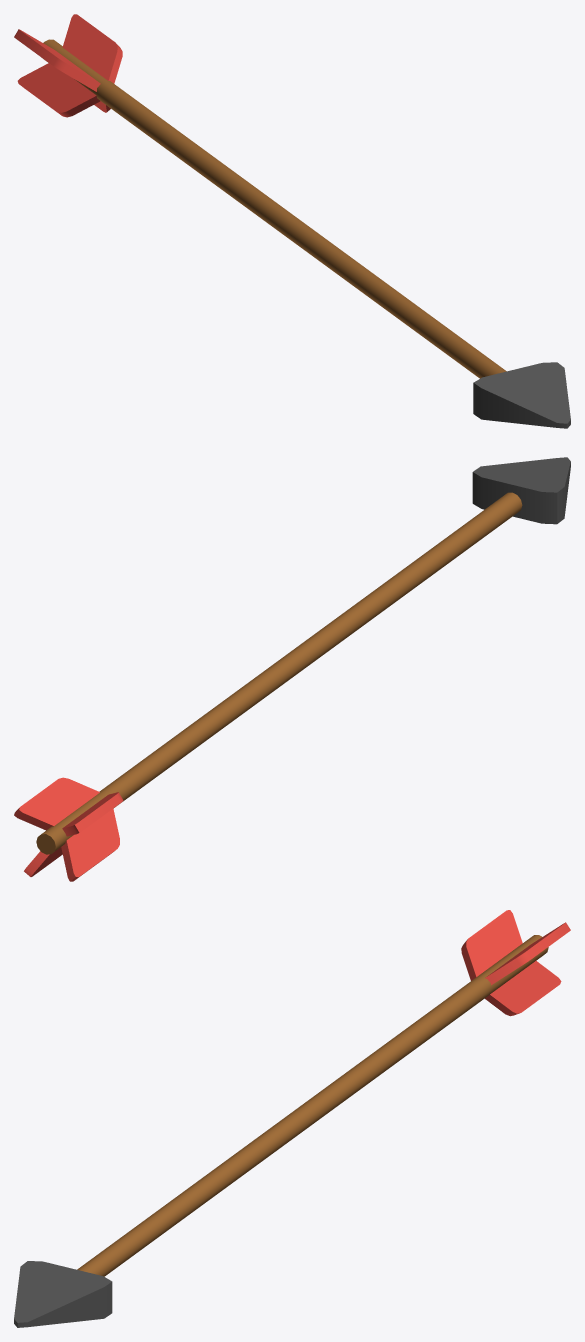
The model's file is Watch tower arrows.fbx.
3 renders of one model, top to bottom at view 1: azimuth 30°, elevation 25°; view 2: azimuth 150°, elevation 25°; view 3: azimuth 330°, elevation 25°, orthographic.
Visible parts, largest first — view 1: Cube.170; view 2: Cube.170; view 3: Cube.170.
Boxes of the visible parts, x1,y1,x2,y2 form: Cube.170: (14,14,570,428); Cube.170: (14,457,570,881); Cube.170: (14,910,570,1327).
Size of the model in its own units: 65.86 by 49.89 by 705.
